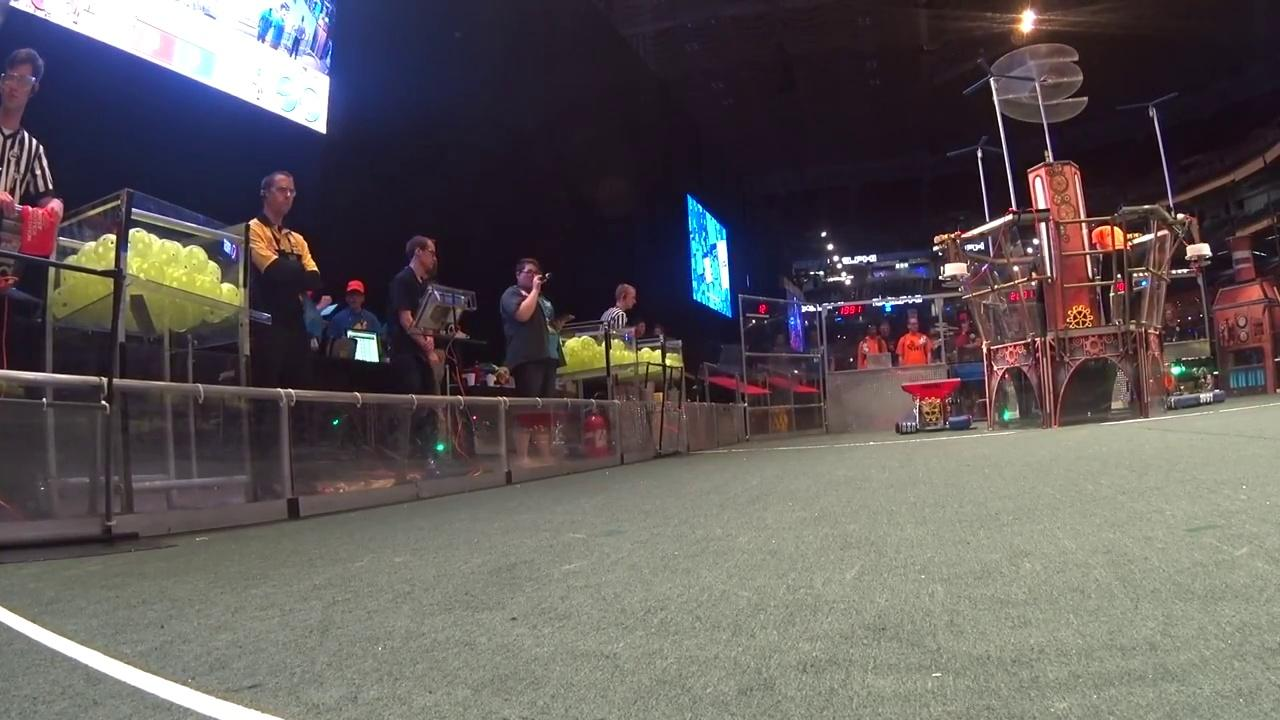robot: (893, 376, 975, 434), (1160, 353, 1227, 413)
